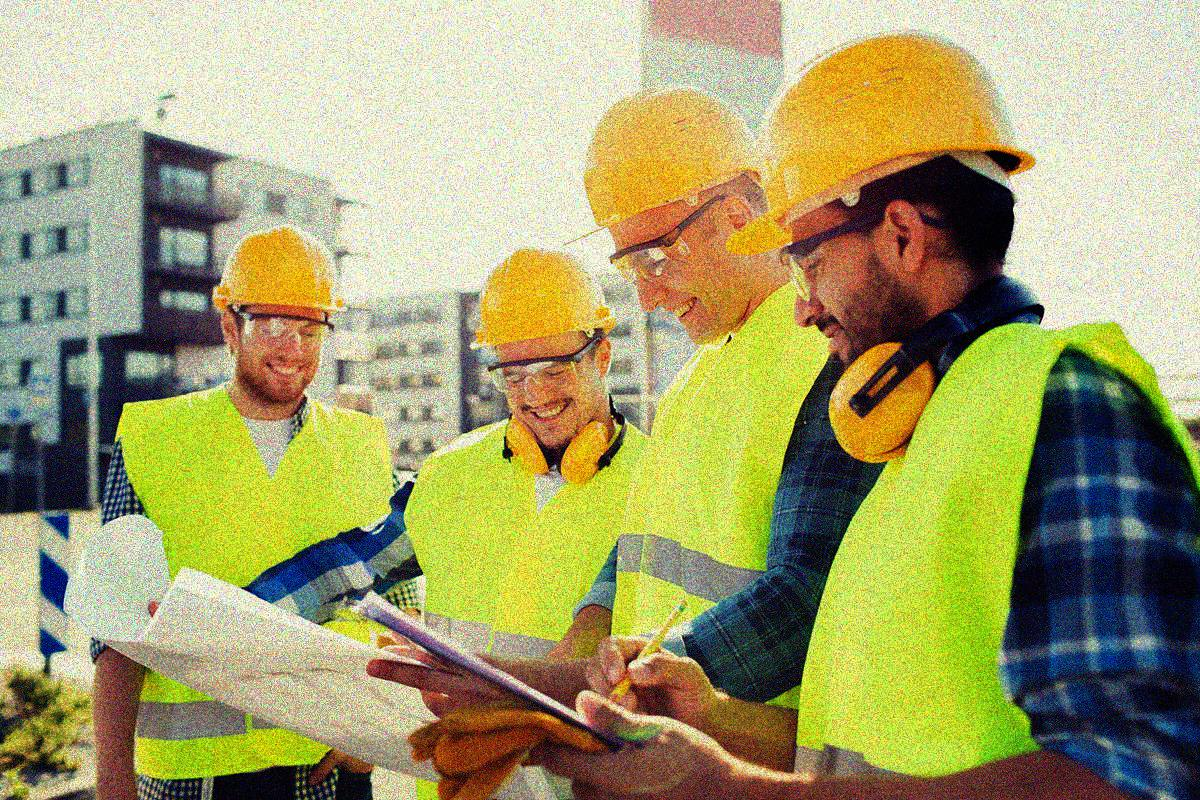helmet: (726, 31, 1040, 347), (568, 83, 780, 345), (469, 240, 621, 455), (207, 221, 351, 401)
